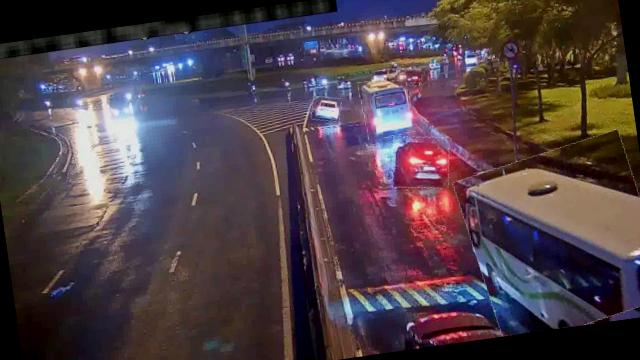Bus: (455, 132, 640, 338), (358, 73, 415, 139)
Car: (388, 131, 453, 193), (310, 93, 342, 124), (394, 66, 422, 87)
